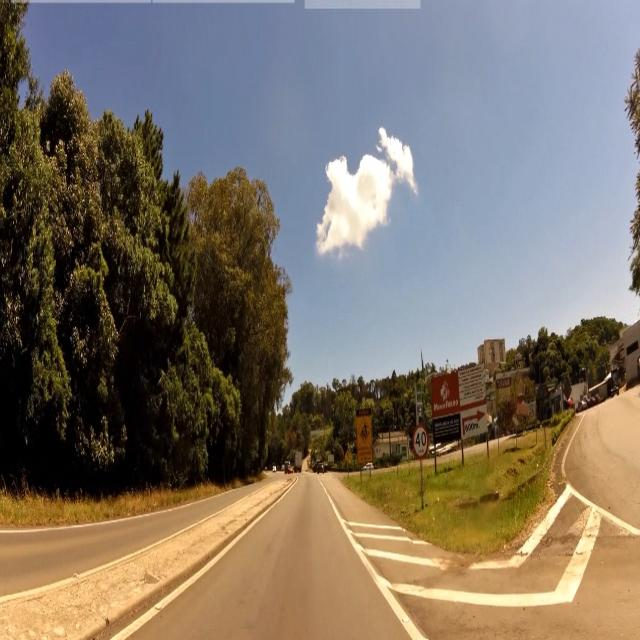R-19: (414, 419, 428, 461)
